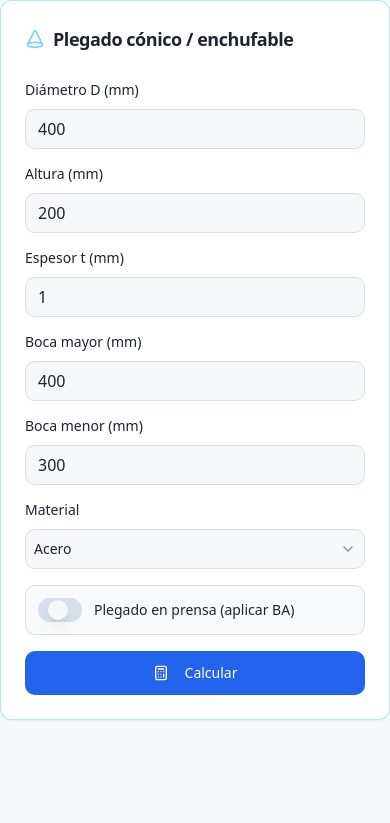
UI Cónico › aprobado muestra resultado; luego 0.7 muestra error y borra el resultado
Replace the text in the number field below "Espesor t (mm)" with "0.8" at [195, 297], box [25,277,365,317]
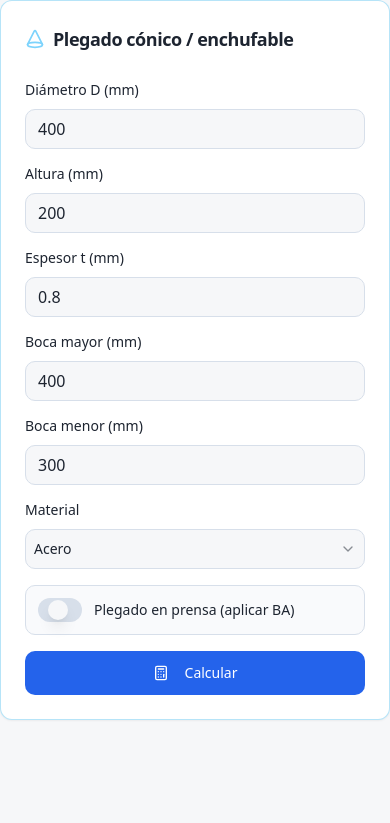
Click the button "Calcular" at [195, 673], box [25,651,365,695]
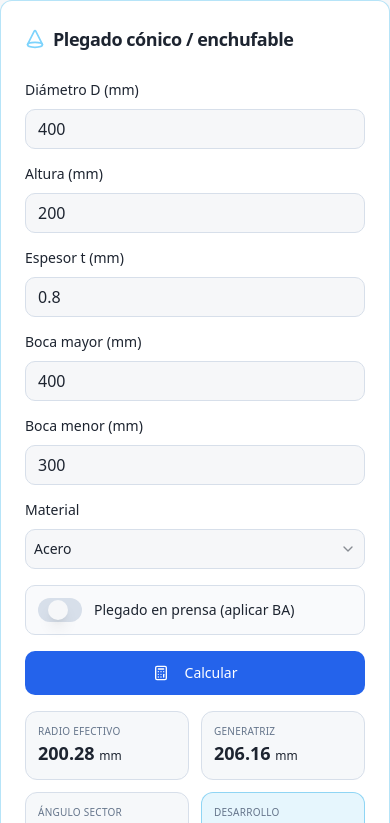
Expected: the text "Desarrollo" is shown, [214,805,280,819]
Replace the text in the number field below "Espesor t (mm)" with "0.7" at [195, 297], box [25,277,365,317]
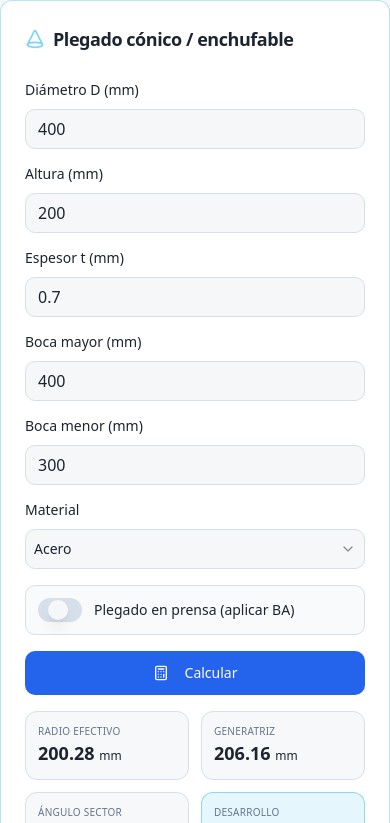
Click the button "Calcular" at [195, 673], box [25,651,365,695]
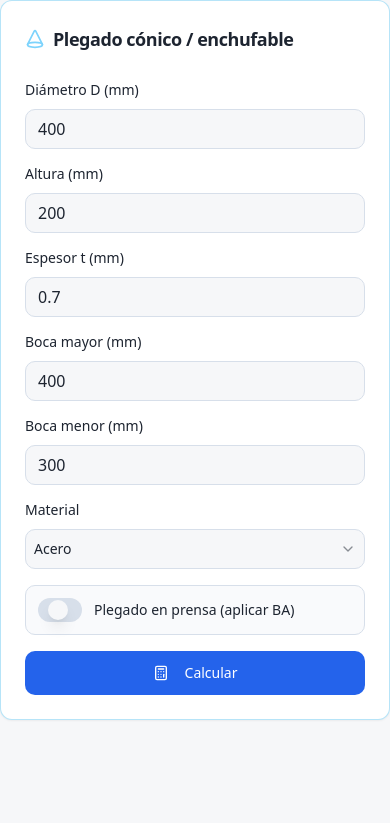
Expected: the text "Desarrollo" is gone
